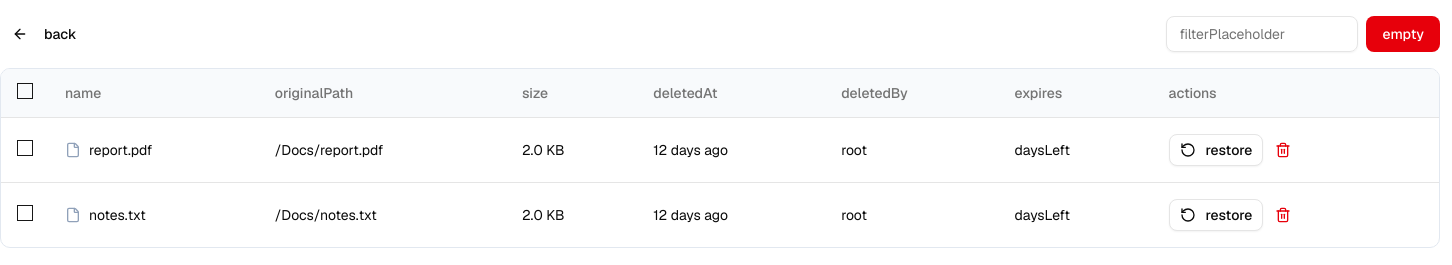
Test: TrashBrowser › restores a file and says where it went
Expected: the text "report.pdf" is shown, [89,140,152,160]
Expected: the text "/Docs/report.pdf" is shown, [259,117,506,182]
Click the button "restore" in the row of "/Docs/report.pdf": (1216,150) [1169,134,1263,166]
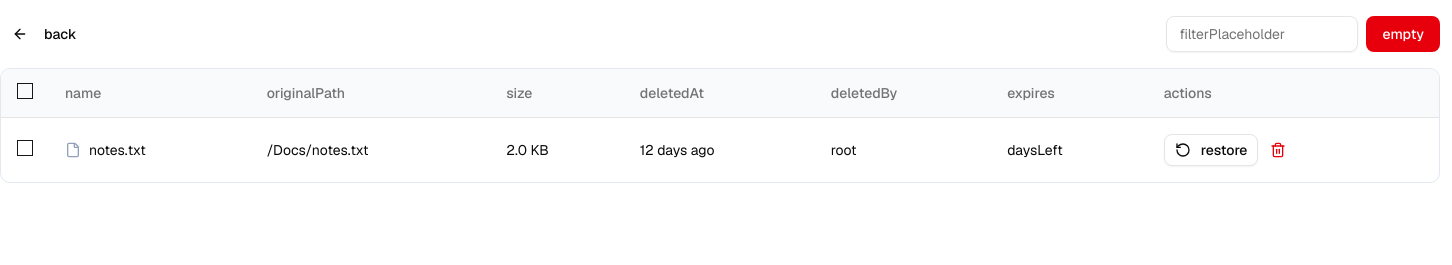
Expected: the text "report.pdf" is gone
